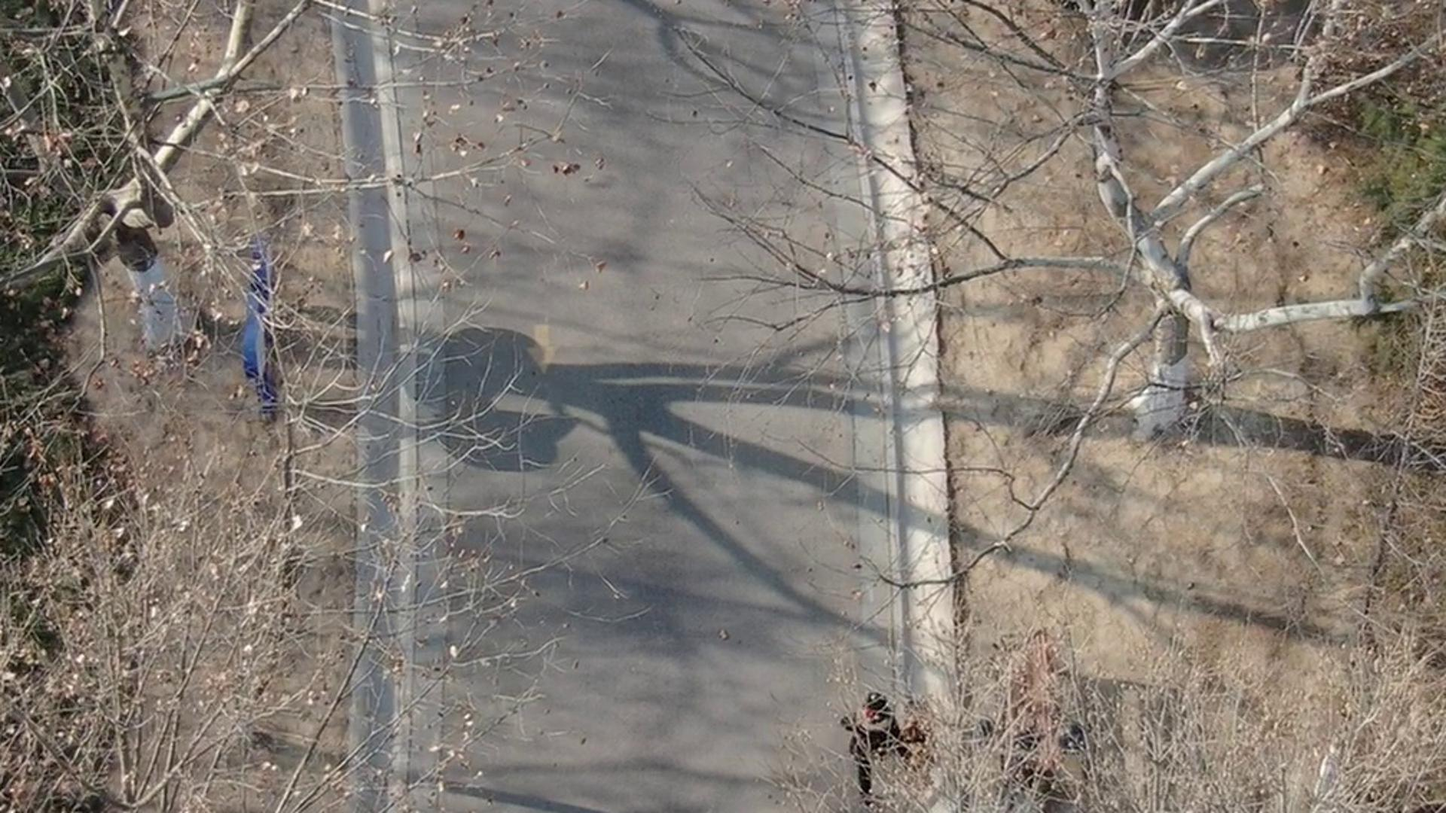human: (843, 683, 901, 789)
